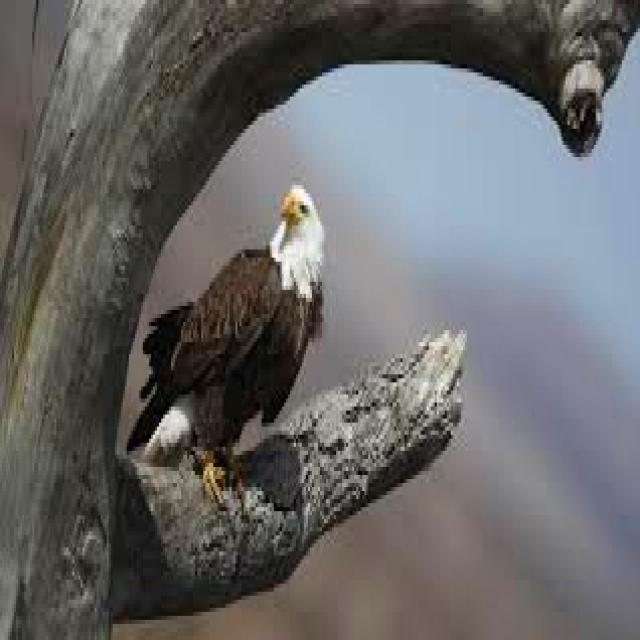eagle: (127, 185, 322, 487)
